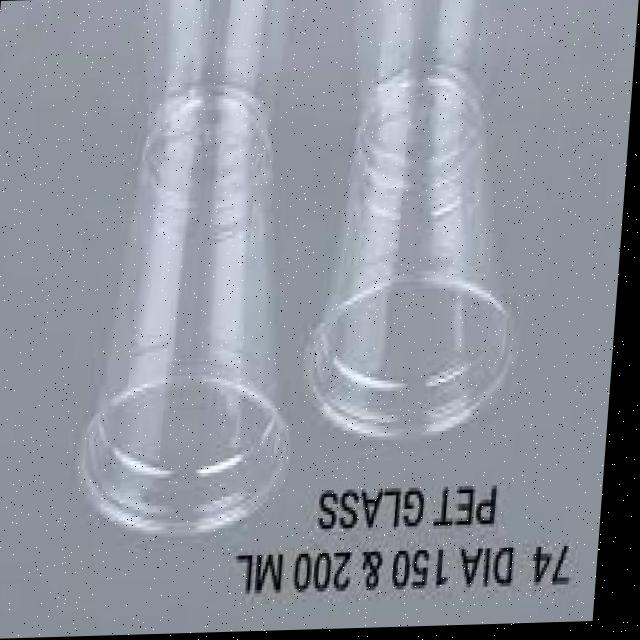cup: (70, 44, 332, 566), (299, 37, 559, 489)
